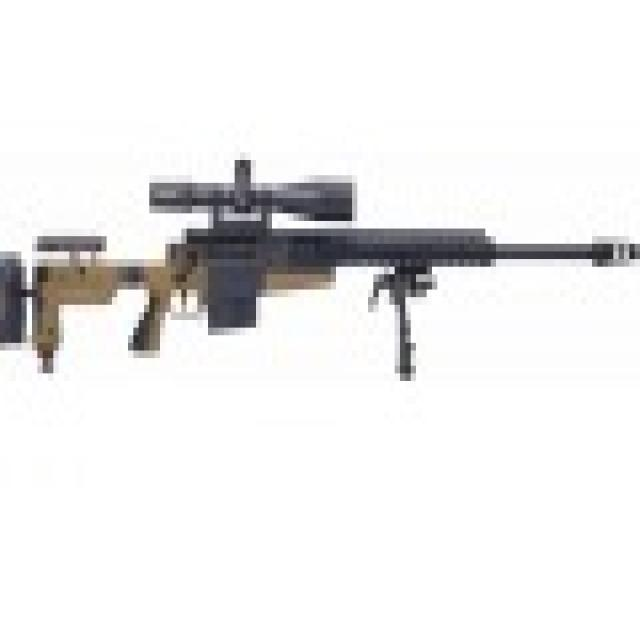Gun: (11, 139, 632, 402)
